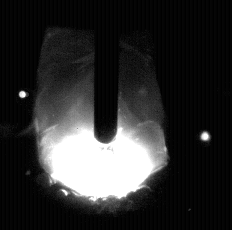arame: (95, 0, 119, 144)
poca: (36, 0, 165, 230)
